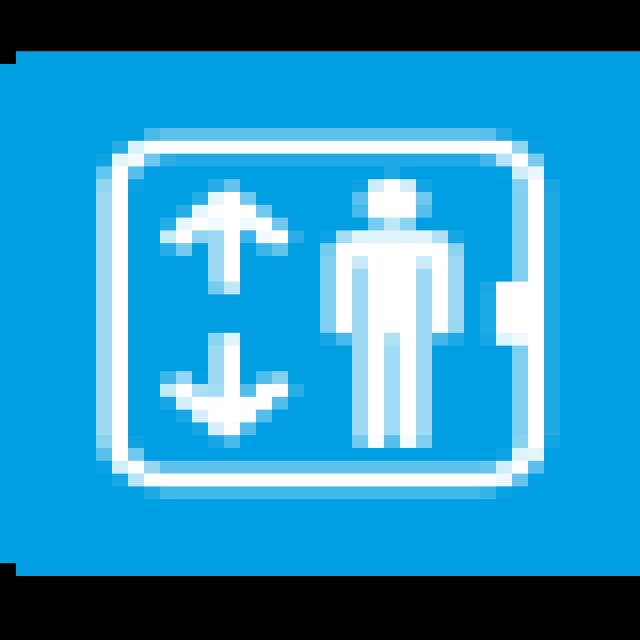elevator: (0, 68, 624, 559)
